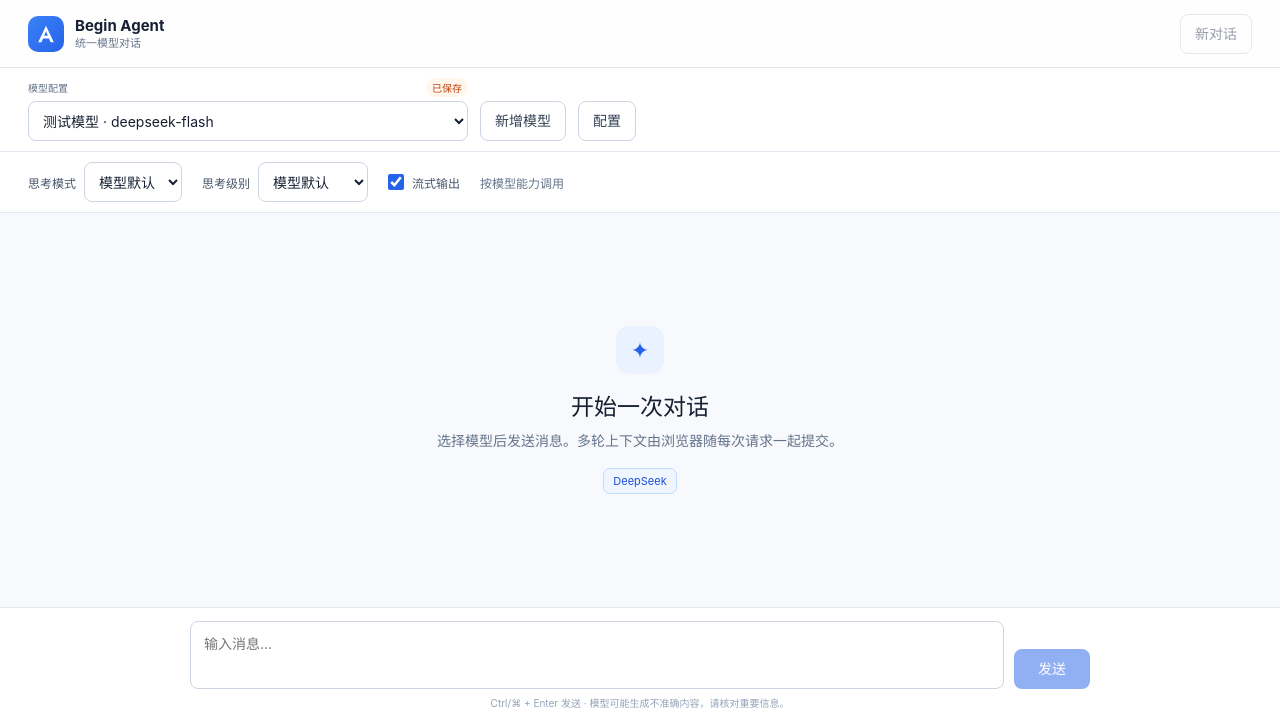
Scenario: page interaction states › keeps partial content after stop and excludes it from the next request
Type "第一次" into the text box with placeholder "输入消息…" at (597,655), box [190,621,1004,689]
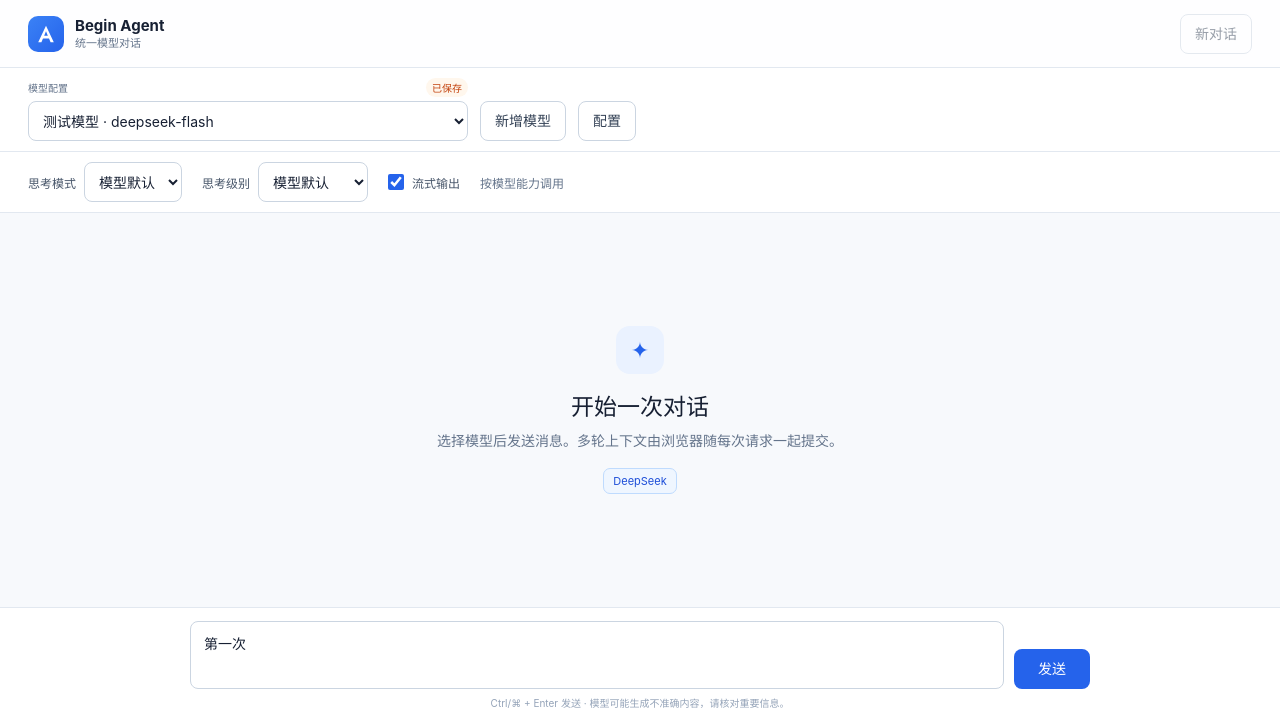
Click the button "发送" at (1052,669), box [1014,649,1090,689]
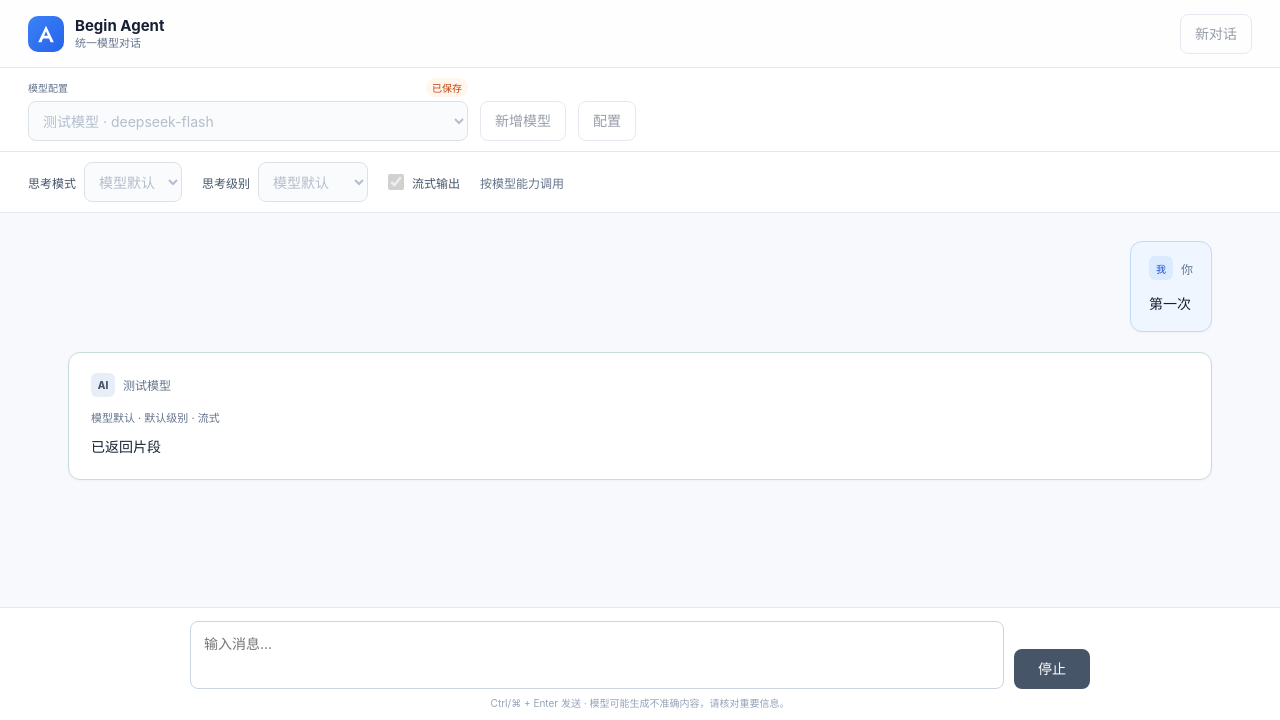
Now the element with class "assistant" shows "已返回片段", box [91,438,161,454]
Now the dropdown labelled "模型配置 已保存" is disabled, box [28,101,468,141]
Click the button "停止" at (1052,669), box [1014,649,1090,689]
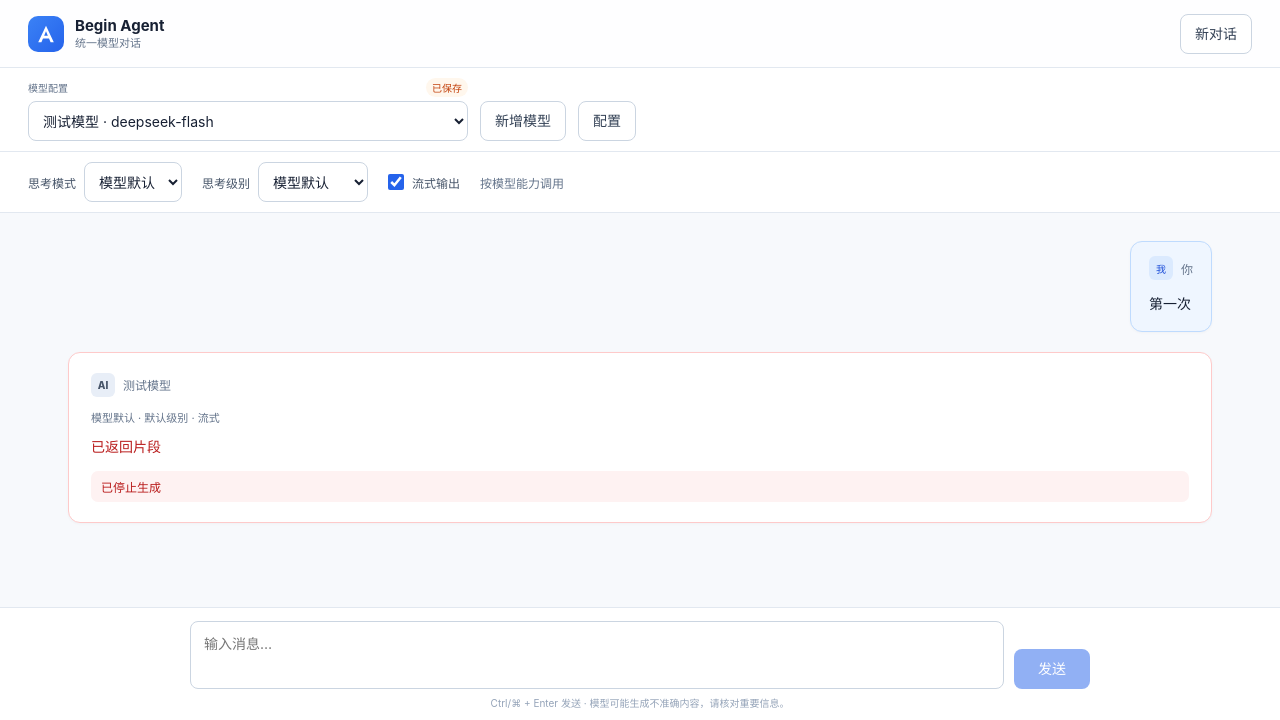
Now the element with class "assistant" shows "已返回片段", box [91,438,161,454]
Now the element with class "assistant" shows "已停止生成", box [101,480,161,495]
Type "继续" into the text box with placeholder "输入消息…" at (597,655), box [190,621,1004,689]
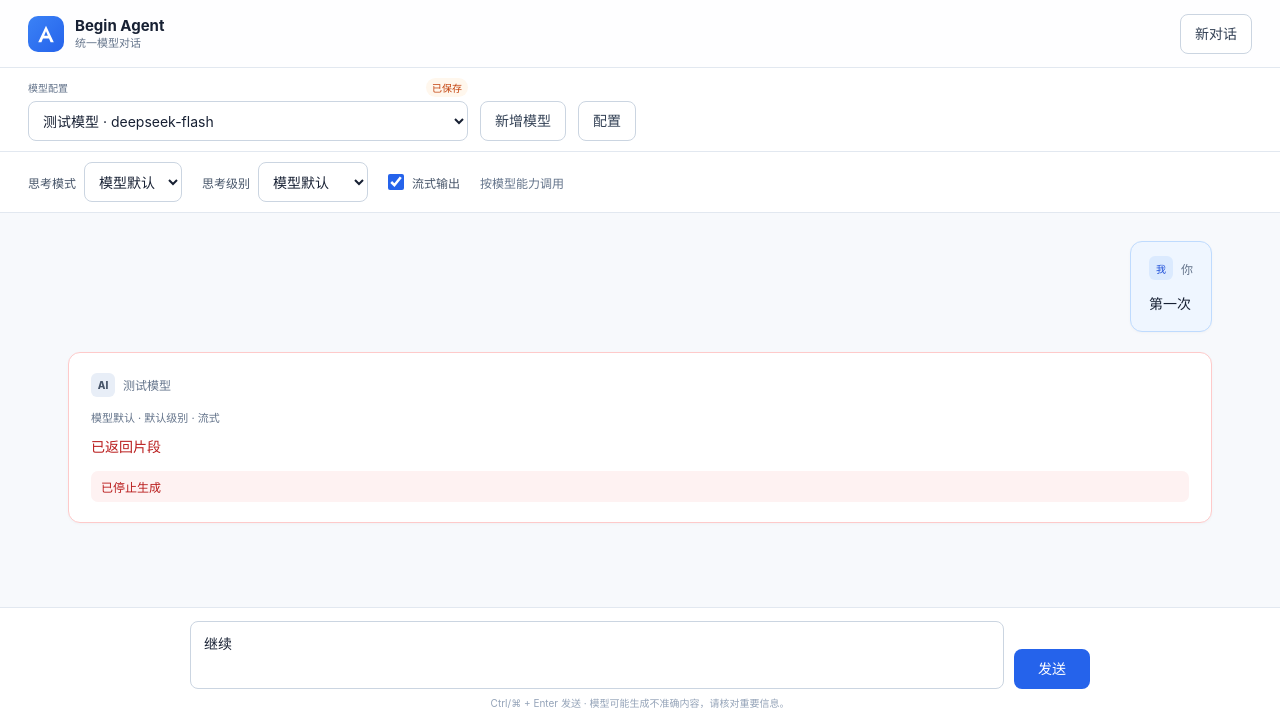
Click the button "发送" at (1052,669), box [1014,649,1090,689]
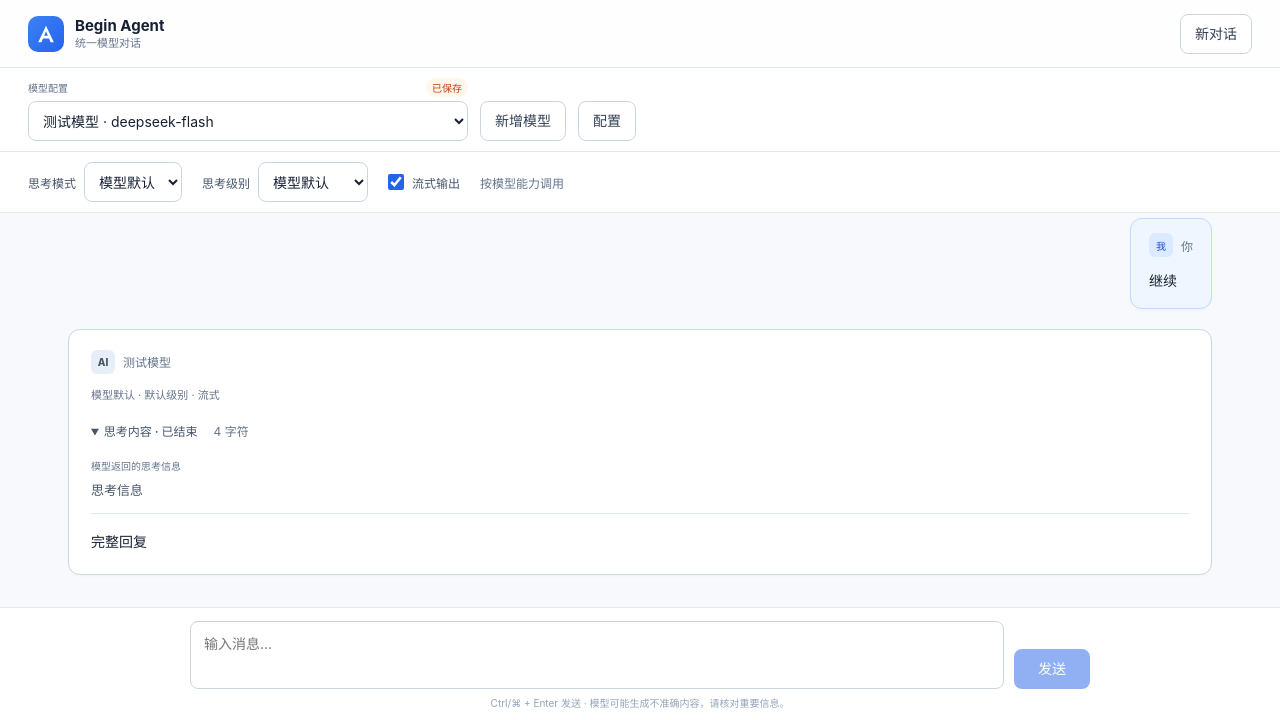
Now the element with class "assistant" shows "完整回复", box [91,533,147,550]
